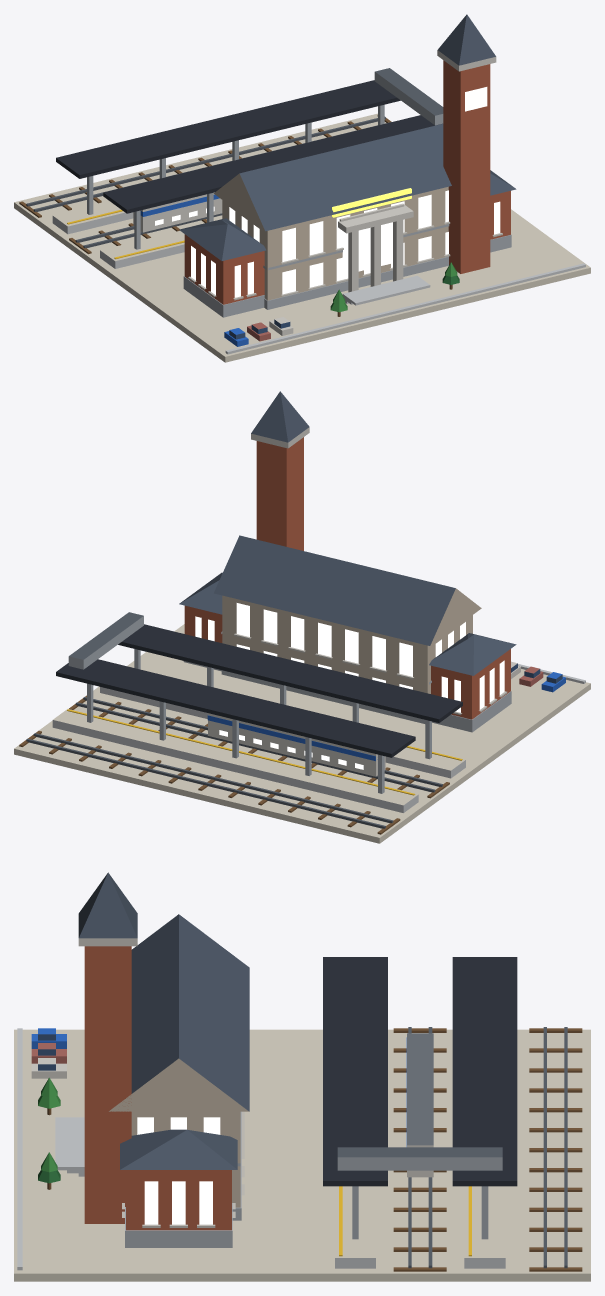
3 views of the same model, one above another, from view 1: azimuth 30°, elevation 25°; view 2: azimuth 150°, elevation 25°; view 3: azimuth 270°, elevation 25° (orthographic). The views are drawn at different scales.
Visible parts, largest first — view 1: b61_x2; view 2: b61_x2; view 3: b61_x2.
Boxes of the visible parts, x1,y1,x2,y2 form: b61_x2: (14, 14, 590, 362); b61_x2: (14, 391, 590, 843); b61_x2: (14, 872, 590, 1281).
Bounding box in the file's own units: 1.96 × 1.31 × 1.96.
